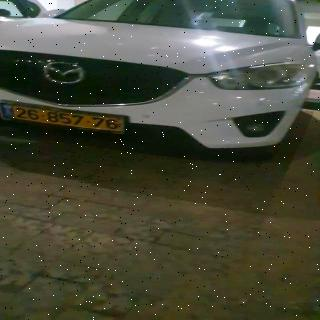LicensePlate: (11, 105, 125, 132)
